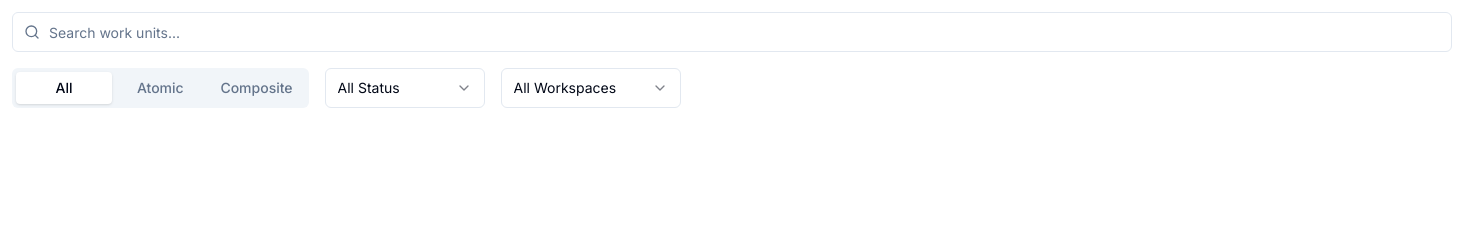
Test case: WorkUnitFilters › workspace filter › should display workspace options
Step 1. Click the dropdown with test id "filter-workspace" → (591, 88), box [501, 68, 681, 108]
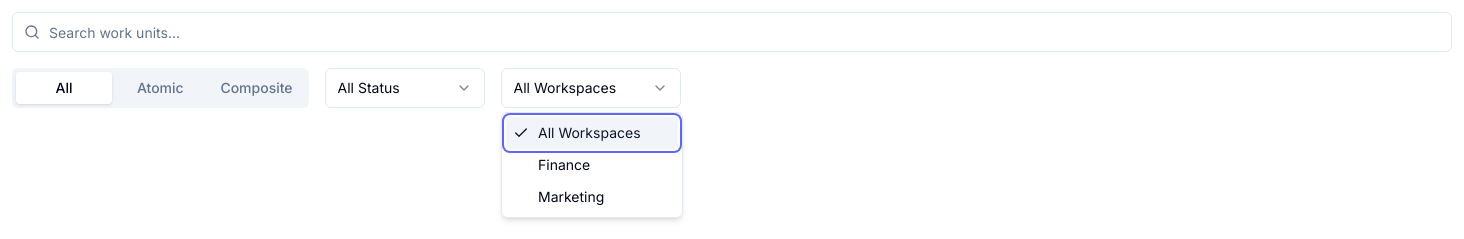
Expected: the option "Finance" is shown, [538, 156, 590, 173]
Expected: the option "Marketing" is shown, [538, 188, 604, 205]
